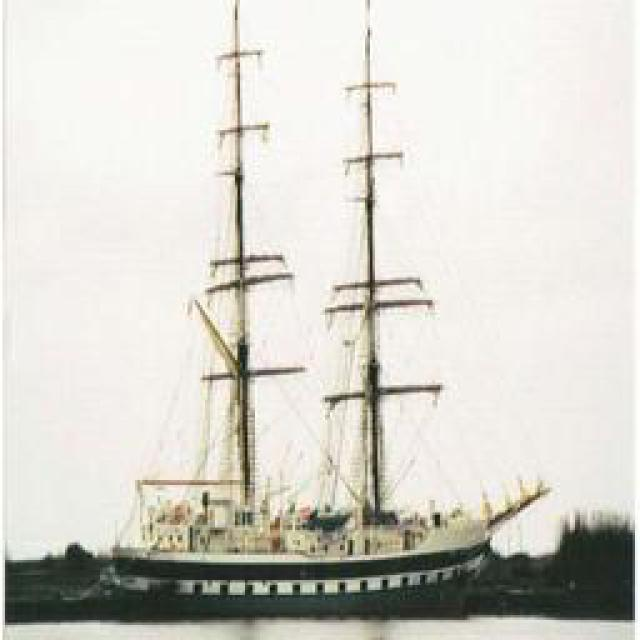Ship: (69, 495, 514, 615)
